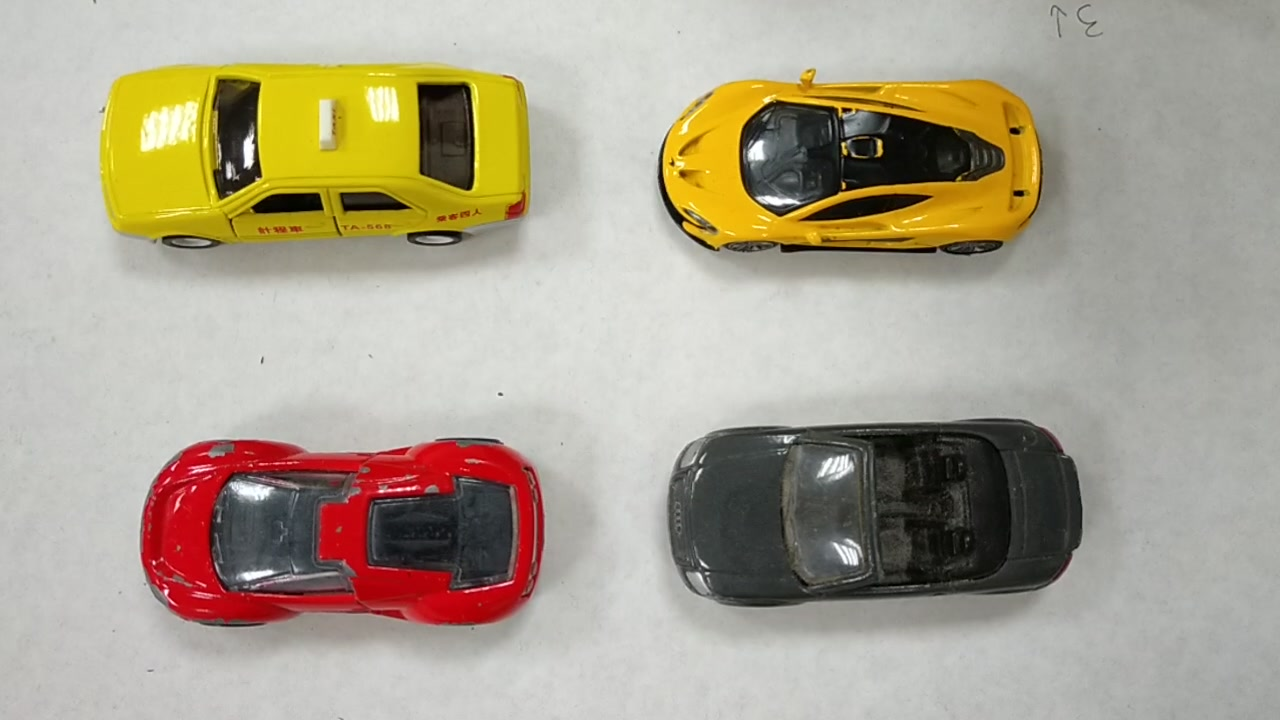car: (139, 445, 548, 636), (100, 67, 539, 233), (667, 430, 1077, 603), (659, 88, 1041, 259)
